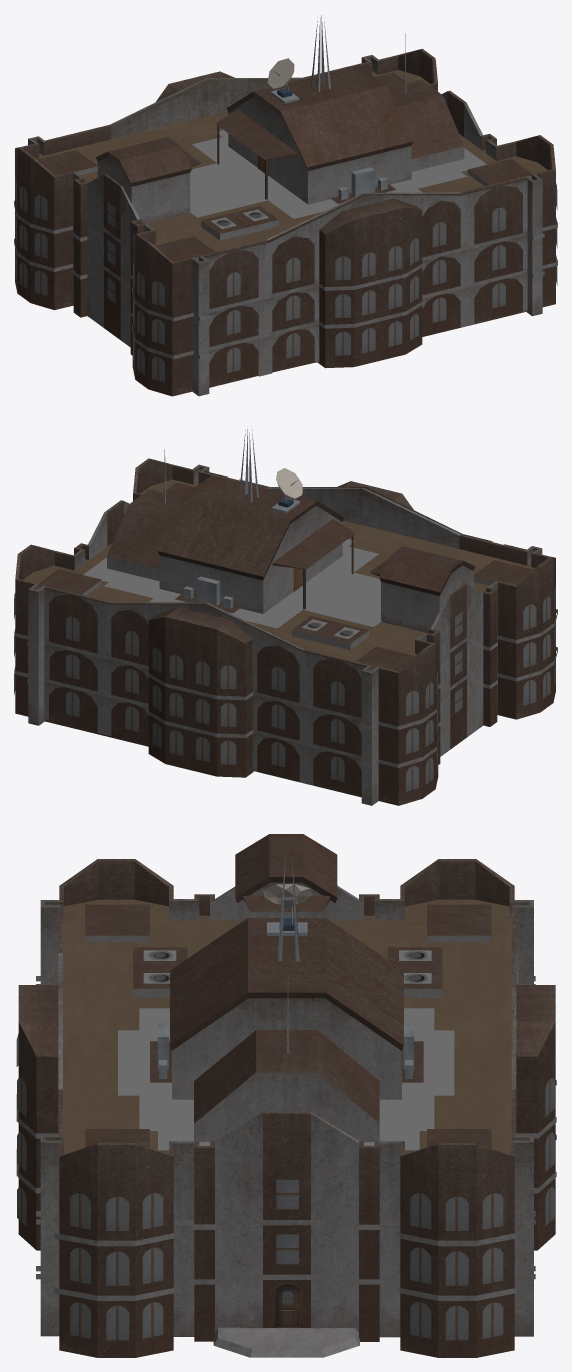
File: ORB_7_S3_Detail_2.fbx
3 views of the same model, one above another, from view 1: azimuth 30°, elevation 25°; view 2: azimuth 150°, elevation 25°; view 3: azimuth 270°, elevation 25° (orthographic). The views are drawn at different scales.
Visible parts, largest first — view 1: ORB_7_S3_Detail_2; view 2: ORB_7_S3_Detail_2; view 3: ORB_7_S3_Detail_2.
Part boxes in pixels (x1=…): ORB_7_S3_Detail_2: x1=14, y1=15, x2=557, y2=396; ORB_7_S3_Detail_2: x1=14, y1=429, x2=557, y2=805; ORB_7_S3_Detail_2: x1=16, y1=834, x2=556, y2=1357.
Size of the model in its own units: 2989 by 1873 by 2380.
